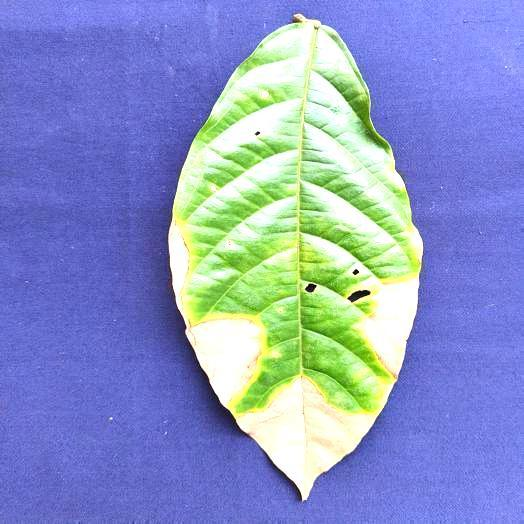Potassium: (170, 15, 421, 498)
